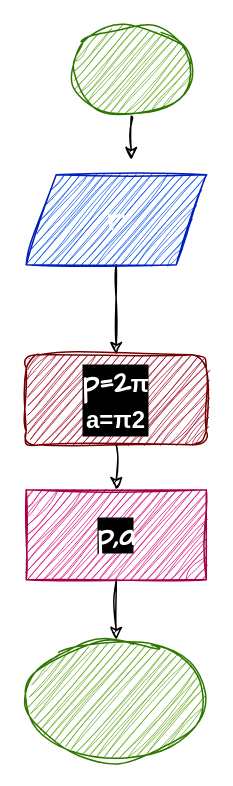
Some shapes in this 233 by 786 pixel diagram are drawn without their labels. Each missing label, with the centre of its shape:
fin: pixel 115 699
inicio: pixel 130 70
